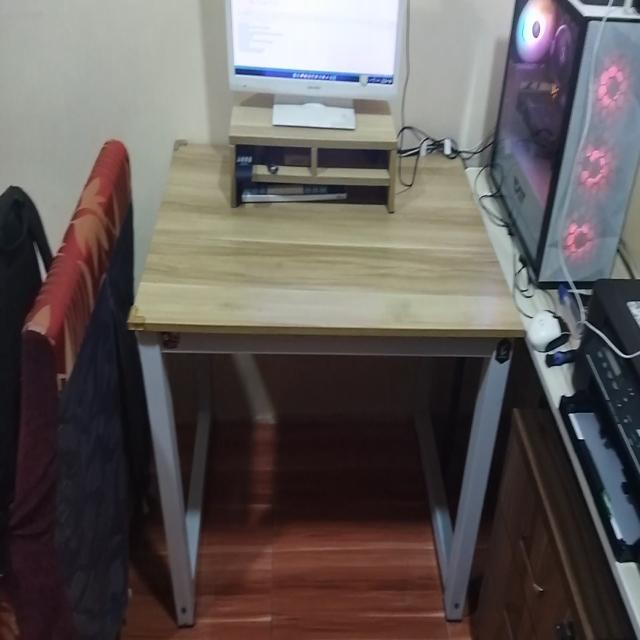table: (126, 128, 512, 629)
